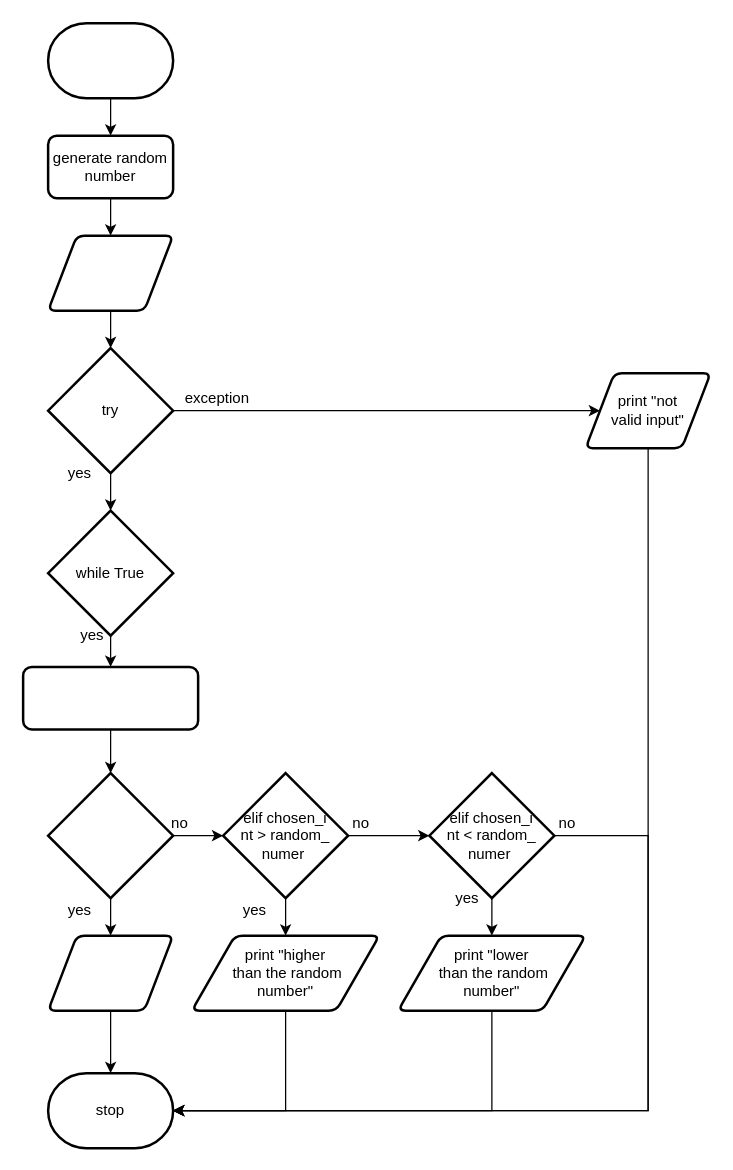
The diagram is 733 pixels wide and 1170 high, and some of its shapes have lost their labels. The shapes that lost their labels are listed below. From the top down, each one's centre as x and y in pixels, then its label:
(110,60): start
(110,272): get integer from user
(110,697): chosen_int = int(chosen_number)
(110,835): if chosen_i nt == random_ numer
(110,972): print "you got it right"
